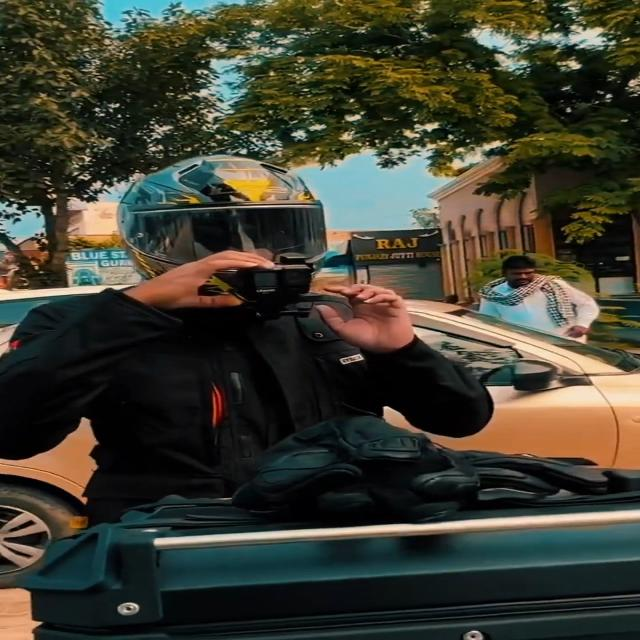Helmet_Wearer: (105, 145, 344, 307)
Jacket_Wearer: (5, 265, 490, 532)
Person: (0, 160, 497, 543)
